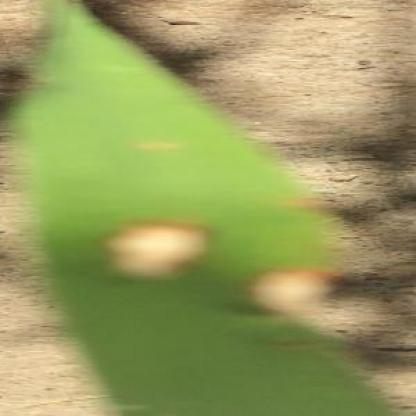Rice blast: (95, 224, 216, 287), (247, 272, 340, 311)
